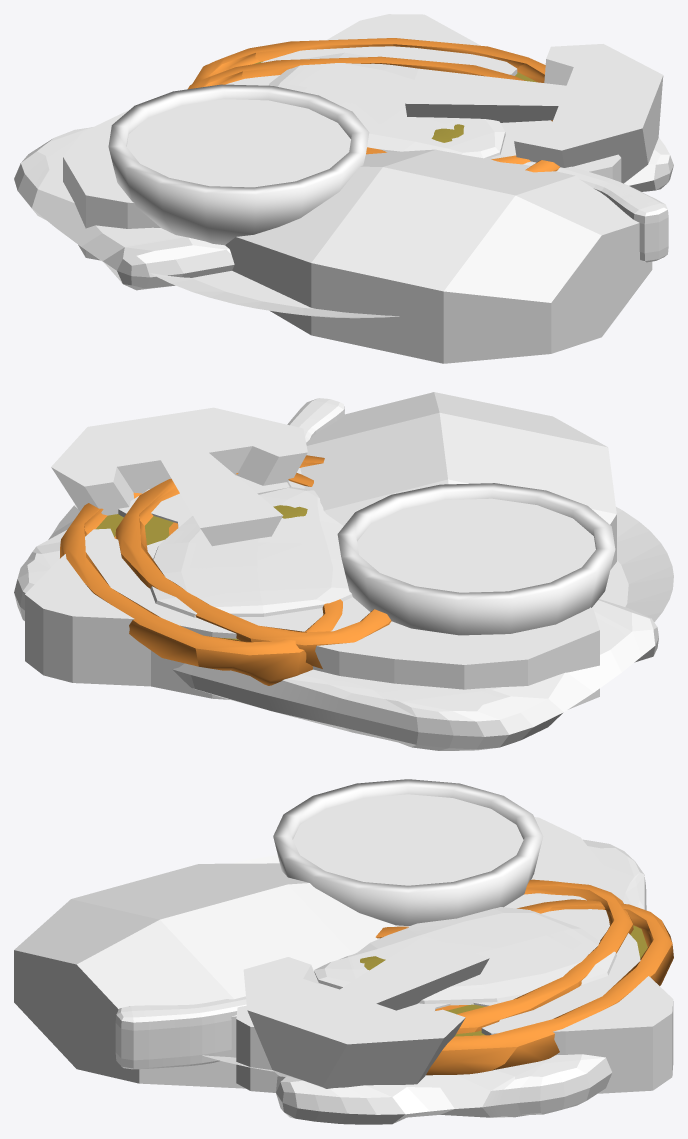
Rendered from Steak - Plated.fbx.
3 views of the same model, one above another, from view 1: azimuth 30°, elevation 25°; view 2: azimuth 150°, elevation 25°; view 3: azimuth 270°, elevation 25° (orthographic). The views are drawn at different scales.
Parts seen in each view (by area): view 1: avocado, mushroomHalf, Skin, Meat_4, Meat_8, Plane_1, Liquid, Liquid_001, Plane_4, Meat_2, Meat_5, Meat_10 (+6 smaller); view 2: Plane_1, avocado, mushroomHalf, Skin, Meat_4, Meat_8, Meat_2, Fat, Liquid, Liquid_001, Meat_10, Meat (+7 smaller); view 3: avocado, mushroomHalf, Skin, Plane_1, Meat_8, Meat_4, Meat_2, Liquid, Liquid_001, Plane_001_1, Bone_2, Fat (+6 smaller).
Part boxes in pixels (bbox=[...]): avocado: bbox=[225, 149, 652, 363]; mushroomHalf: bbox=[405, 44, 663, 183]; Skin: bbox=[108, 84, 369, 245]; Meat_4: bbox=[14, 128, 672, 290]; Meat_8: bbox=[269, 52, 500, 158]; Plane_1: bbox=[64, 14, 602, 260]; Liquid: bbox=[126, 99, 350, 187]; Liquid_001: bbox=[154, 109, 323, 180]; Plane_4: bbox=[63, 14, 621, 260]; Meat_2: bbox=[192, 38, 545, 164]; Meat_5: bbox=[15, 129, 673, 288]; Meat_10: bbox=[269, 55, 505, 155]; Plane_1: bbox=[32, 475, 599, 709]; avocado: bbox=[300, 392, 616, 569]; mushroomHalf: bbox=[51, 407, 307, 546]; Skin: bbox=[337, 483, 615, 635]; Meat_4: bbox=[36, 504, 658, 750]; Meat_8: bbox=[150, 487, 352, 617]; Meat_2: bbox=[60, 473, 342, 685]; Fat: bbox=[14, 547, 418, 747]; Liquid: bbox=[357, 498, 595, 592]; Liquid_001: bbox=[386, 509, 566, 584]; Meat_10: bbox=[155, 487, 352, 617]; Meat: bbox=[115, 455, 391, 668]; avocado: bbox=[14, 863, 395, 1088]; mushroomHalf: bbox=[243, 936, 489, 1088]; Skin: bbox=[273, 779, 543, 925]; Plane_1: bbox=[236, 817, 673, 1092]; Meat_8: bbox=[314, 910, 616, 1005]; Meat_4: bbox=[276, 839, 643, 1124]; Meat_2: bbox=[375, 899, 673, 1075]; Liquid: bbox=[293, 794, 523, 885]; Liquid_001: bbox=[324, 806, 491, 876]; Plane_001_1: bbox=[397, 999, 660, 1093]; Bone_2: bbox=[115, 925, 409, 1069]; Fat: bbox=[482, 872, 646, 1117].
Bounding box in the file's own units: 67.51 × 17.86 × 69.35.
